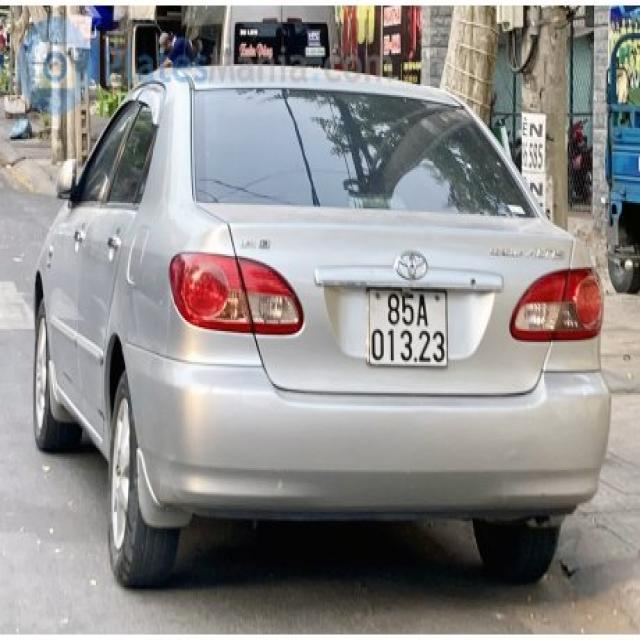license: (354, 279, 462, 384)
